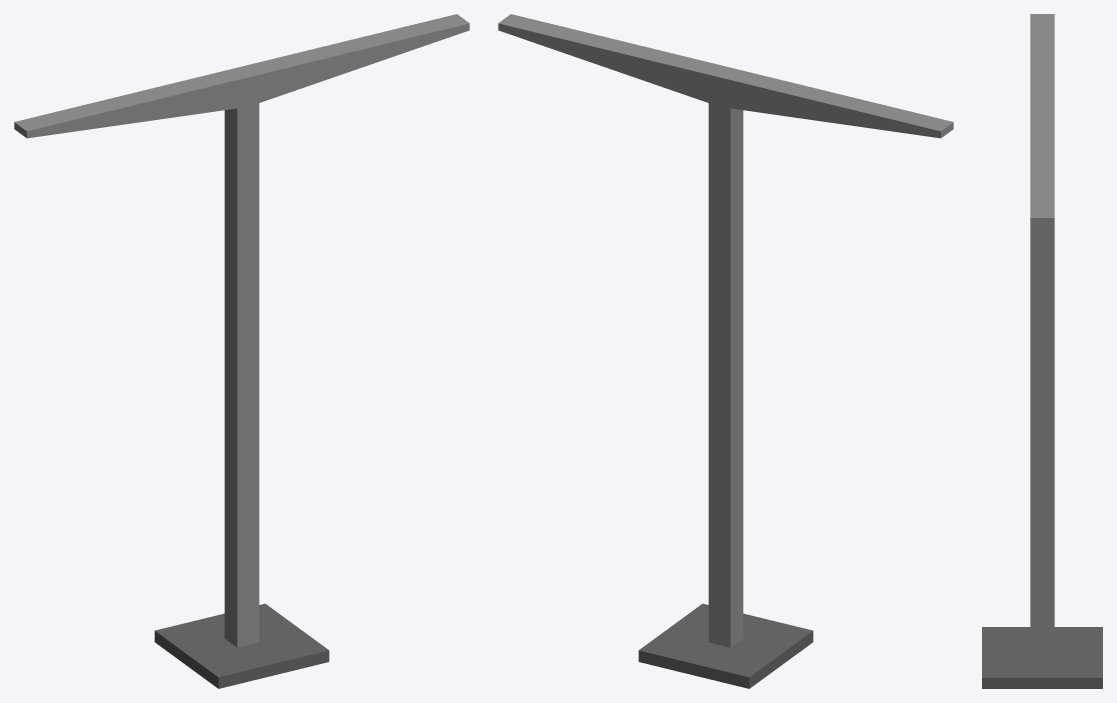
Rendered from Lamp_Center.obj.
The picture shows the model from 3 angles, left to right: view 1: azimuth 30°, elevation 25°; view 2: azimuth 150°, elevation 25°; view 3: azimuth 270°, elevation 25°; orthographic projection. The views are drawn at different scales.
Parts seen in each view (by area): view 1: Lamp_Center_Plane.001; view 2: Lamp_Center_Plane.001; view 3: Lamp_Center_Plane.001.
Boxes of the visible parts, x1,y1,x2,y2 form: Lamp_Center_Plane.001: (14,14,469,688); Lamp_Center_Plane.001: (498,14,953,688); Lamp_Center_Plane.001: (982,14,1102,688).
Bounding box in the file's own units: 4 × 5 × 1.
1 material, 1 textured.
